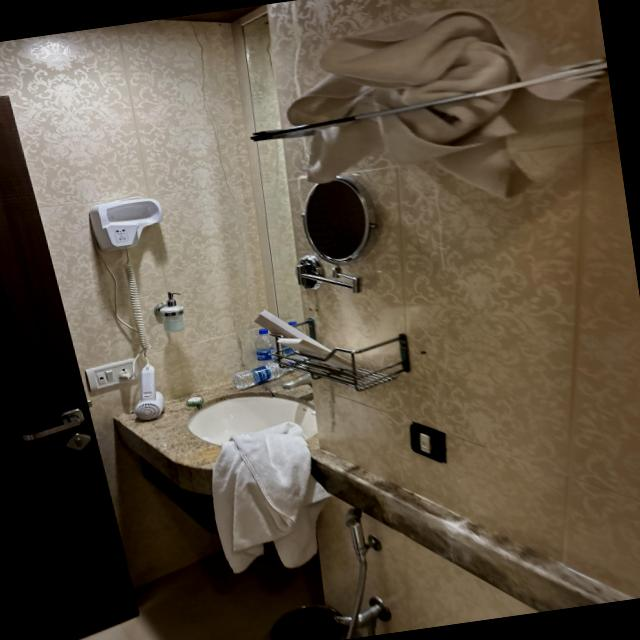mess: (202, 0, 620, 213), (104, 357, 343, 607)
